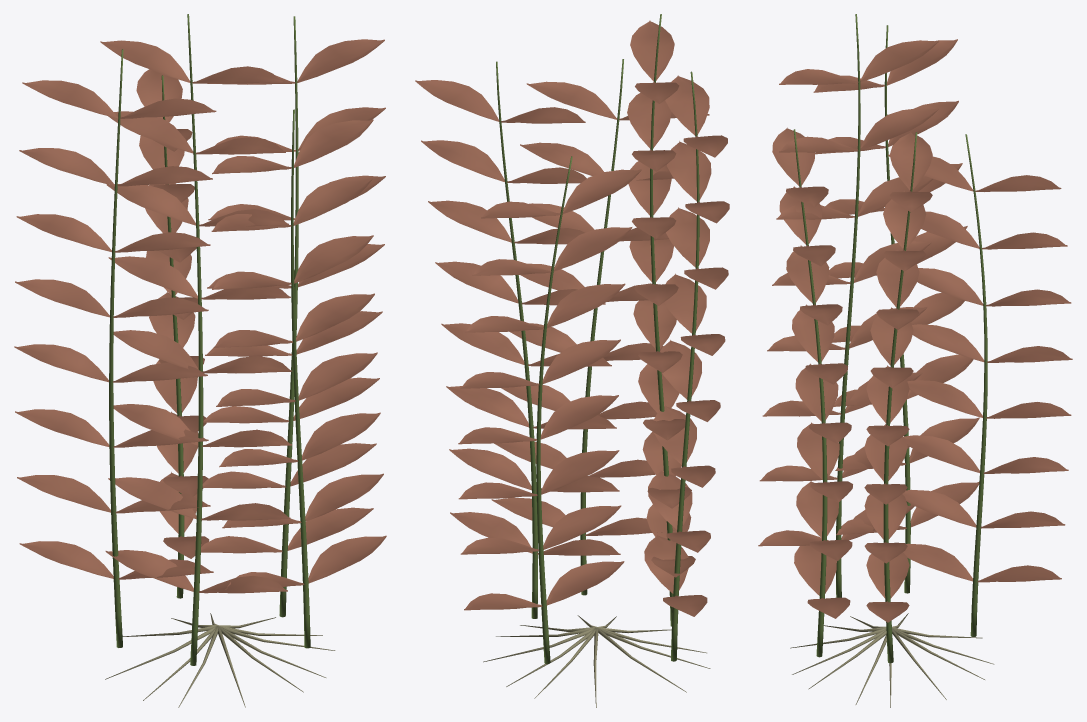
File: ludwigia-mobile.glb
3 renders of one model, left to right at view 1: azimuth 30°, elevation 25°; view 2: azimuth 150°, elevation 25°; view 3: azimuth 270°, elevation 25°, orthographic. The views are drawn at different scales.
Visible parts, largest first — view 1: opposite-leaf, branching-stem, anchoring-root; view 2: opposite-leaf, branching-stem, anchoring-root; view 3: opposite-leaf, branching-stem, anchoring-root.
Part boxes in pixels (bbox=[...]): opposite-leaf: bbox=[14, 39, 386, 593]; branching-stem: bbox=[109, 14, 310, 665]; anchoring-root: bbox=[105, 613, 335, 707]; opposite-leaf: bbox=[415, 20, 729, 616]; branching-stem: bbox=[496, 14, 699, 664]; anchoring-root: bbox=[483, 615, 710, 707]; opposite-leaf: bbox=[758, 39, 1072, 622]; branching-stem: bbox=[793, 14, 987, 663]; anchoring-root: bbox=[790, 613, 994, 707].
Size of the model in its own units: 0.4217 by 0.7956 by 0.3629.
